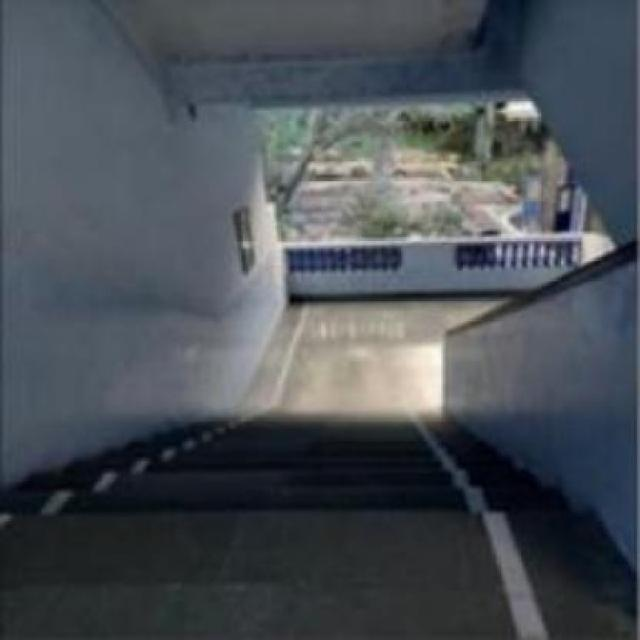stair: (6, 399, 569, 544)
